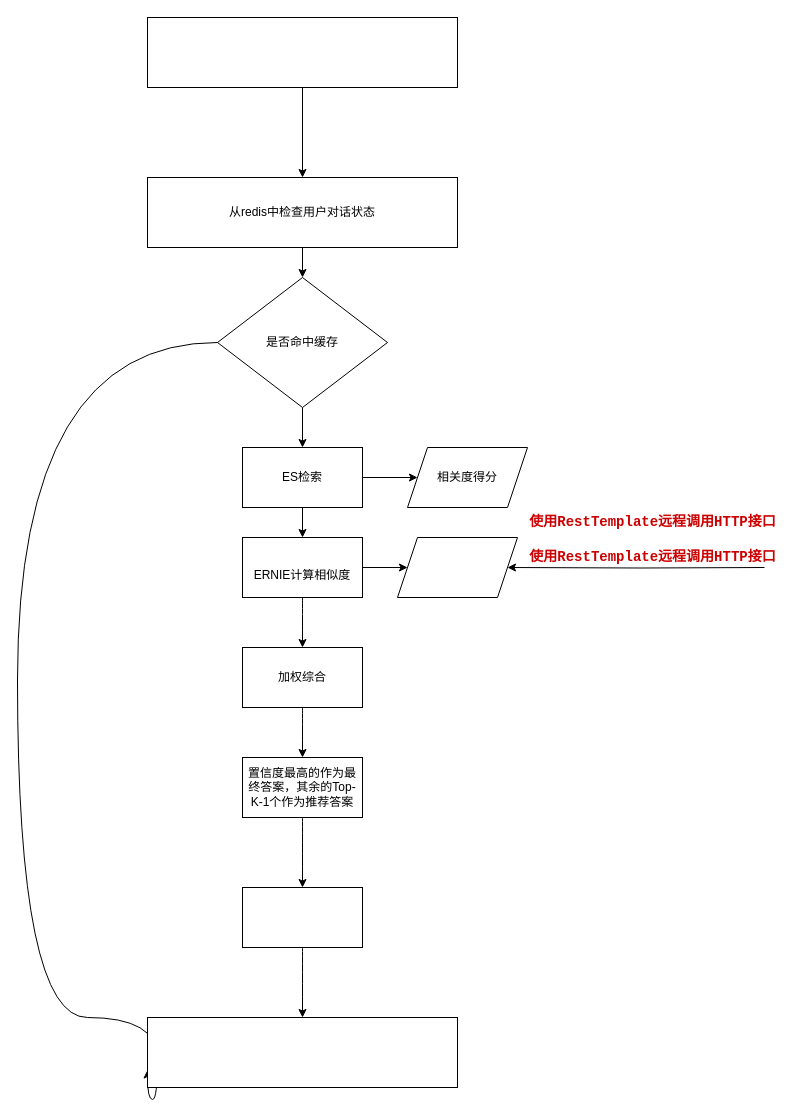
The diagram is 805 pixels wide and 1117 high, and some of its shapes have lost their labels. Each missing label, with the box of its shape:
加入redis缓存: (242, 886, 362, 948)
更新redis用户对话状态u: (146, 1016, 458, 1088)
用户输入问题: (146, 16, 458, 88)
相似度得分: (396, 536, 518, 598)
